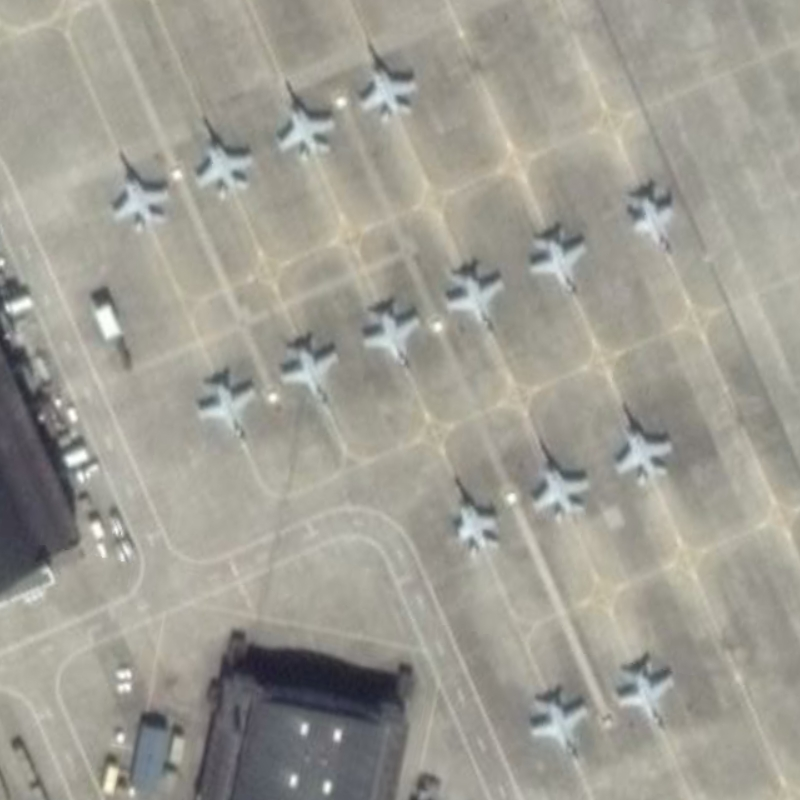A16: (524, 214, 599, 322), (192, 361, 265, 466), (275, 328, 347, 432), (437, 255, 511, 355), (347, 35, 424, 129), (106, 139, 177, 240), (607, 394, 682, 489), (610, 646, 680, 746), (270, 73, 342, 166), (187, 106, 258, 200), (355, 294, 427, 386), (525, 681, 596, 773), (527, 424, 595, 517), (621, 179, 687, 273), (448, 469, 511, 566)
